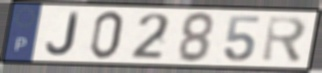0: (88, 9, 127, 61)
2: (129, 12, 172, 60)
5: (222, 14, 261, 63)
8: (176, 10, 217, 64)
J: (45, 12, 81, 57)
R: (260, 14, 310, 66)
